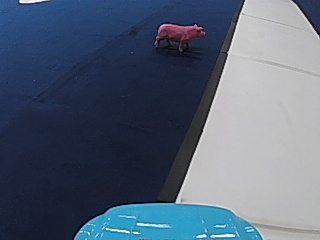pig: (152, 18, 205, 51)
